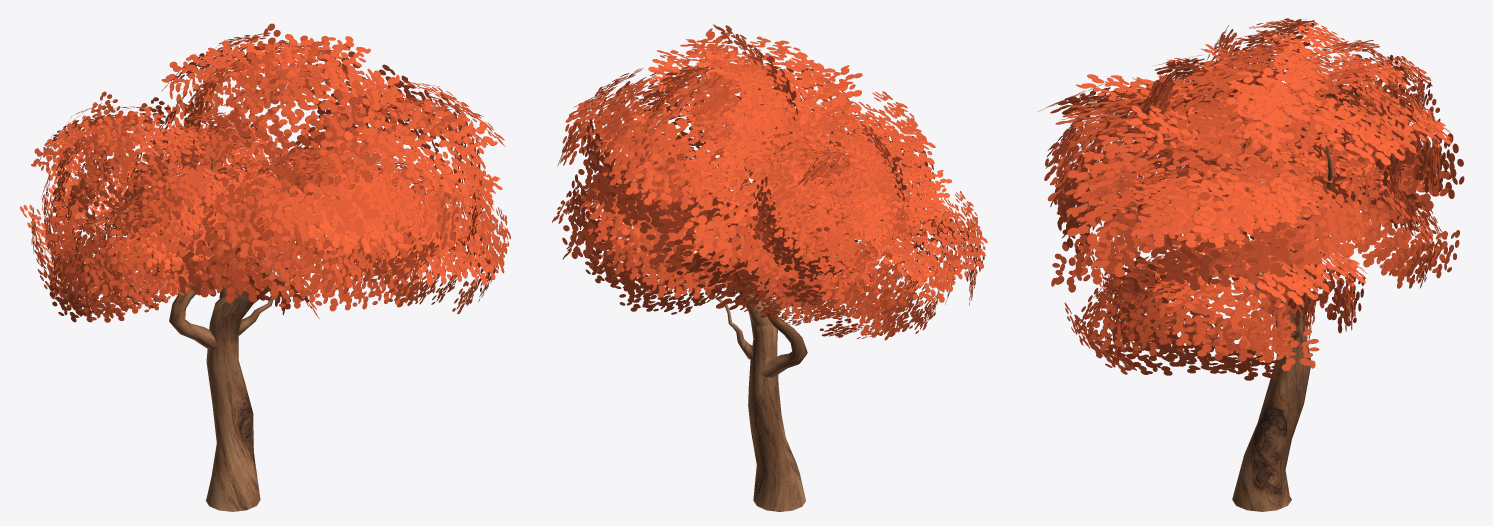
The model's file is Pohon Stylized1.obj.
3 views of the same model, side by side, from view 1: azimuth 30°, elevation 25°; view 2: azimuth 150°, elevation 25°; view 3: azimuth 270°, elevation 25° (orthographic). The views are drawn at different scales.
Parts seen in each view (by area): view 1: daun2.002, daun2, Pohon1; view 2: daun2.002, daun2, Pohon1; view 3: daun2.002, daun2, Pohon1.
Part boxes in pixels (left/top/right/bottom): daun2.002: left=123, top=23, right=510, bottom=318; daun2: left=20, top=91, right=290, bottom=322; Pohon1: left=169, top=157, right=274, bottom=511; daun2.002: left=552, top=24, right=935, bottom=315; daun2: left=726, top=118, right=987, bottom=340; Pohon1: left=704, top=165, right=813, bottom=511; daun2.002: left=1038, top=42, right=1464, bottom=380; daun2: left=1144, top=18, right=1440, bottom=230; Pohon1: left=1228, top=121, right=1332, bottom=511.
Size of the model in its own units: 3.67 by 3.6 by 3.05.
2 materials, 2 textured.
